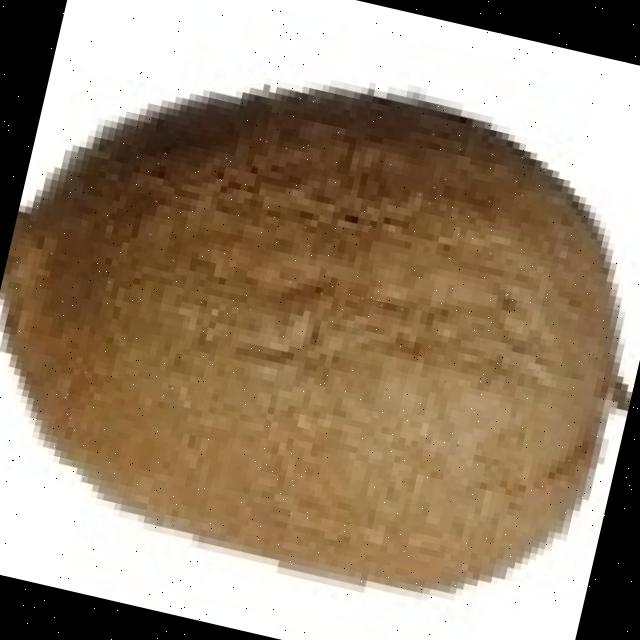kiwi: (11, 108, 622, 600)
